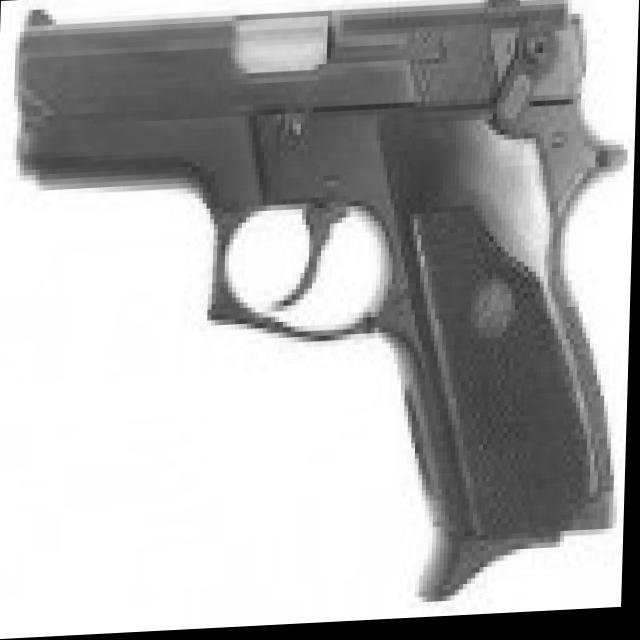handgun: (9, 0, 632, 623)
